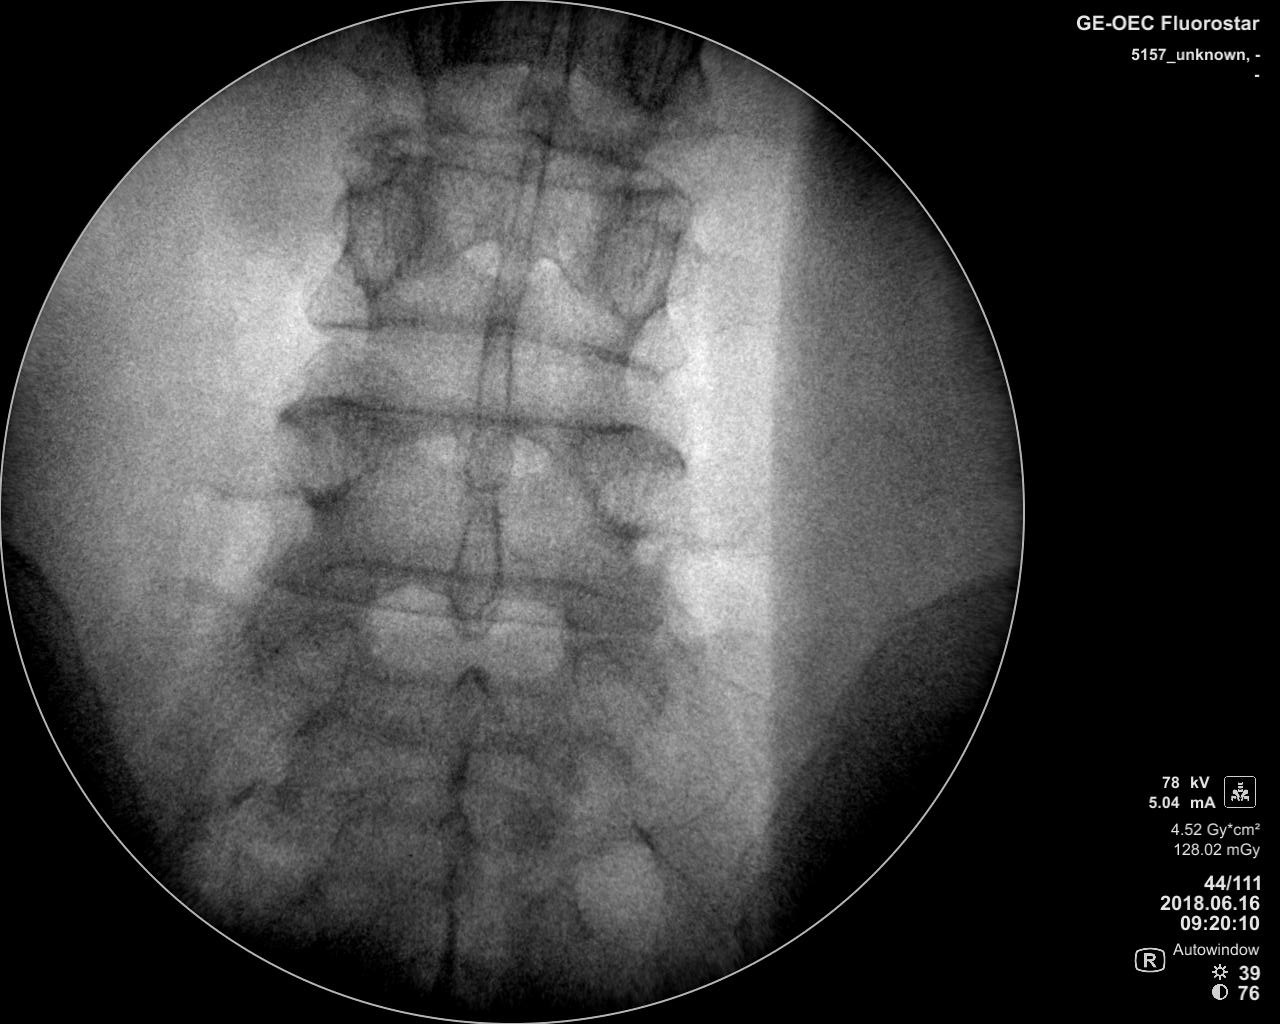eyes: (263, 392, 380, 515), (573, 418, 685, 541), (328, 176, 424, 292), (592, 202, 681, 321)
line: (240, 552, 676, 639), (290, 302, 681, 389), (262, 374, 673, 445), (338, 124, 685, 203)
nose: (461, 311, 519, 497), (489, 136, 550, 303), (436, 493, 506, 632), (526, 10, 577, 127)
